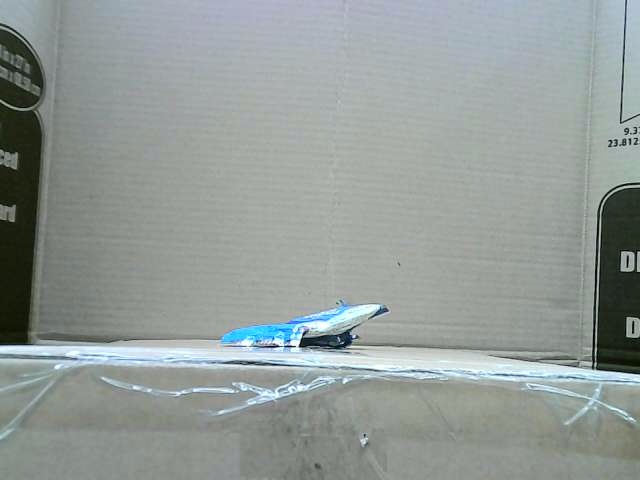CandyWrapper: (219, 303, 391, 351)
